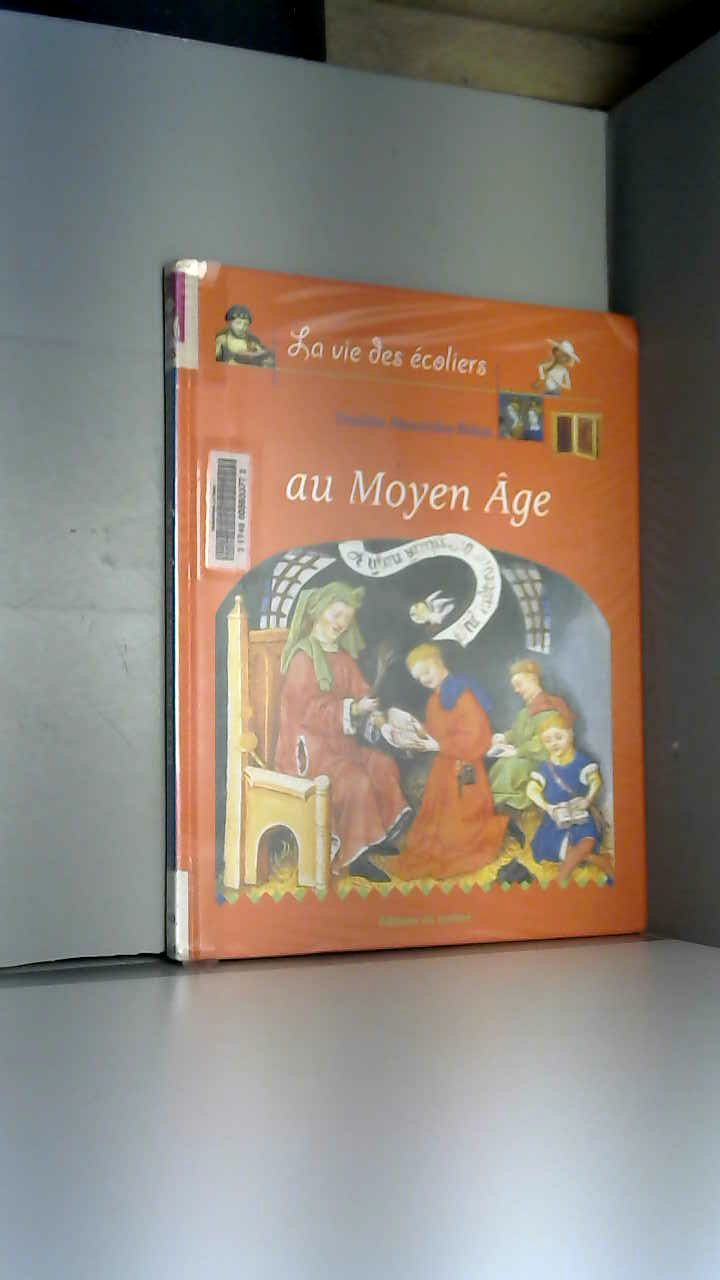book: (132, 231, 681, 1005)
